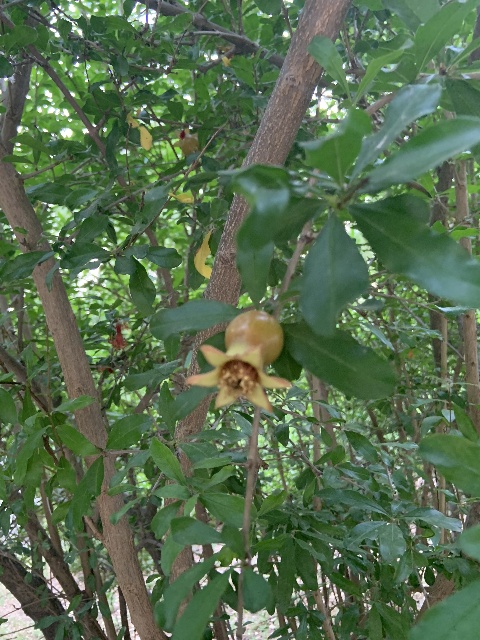early-fruit: (185, 310, 291, 414)
